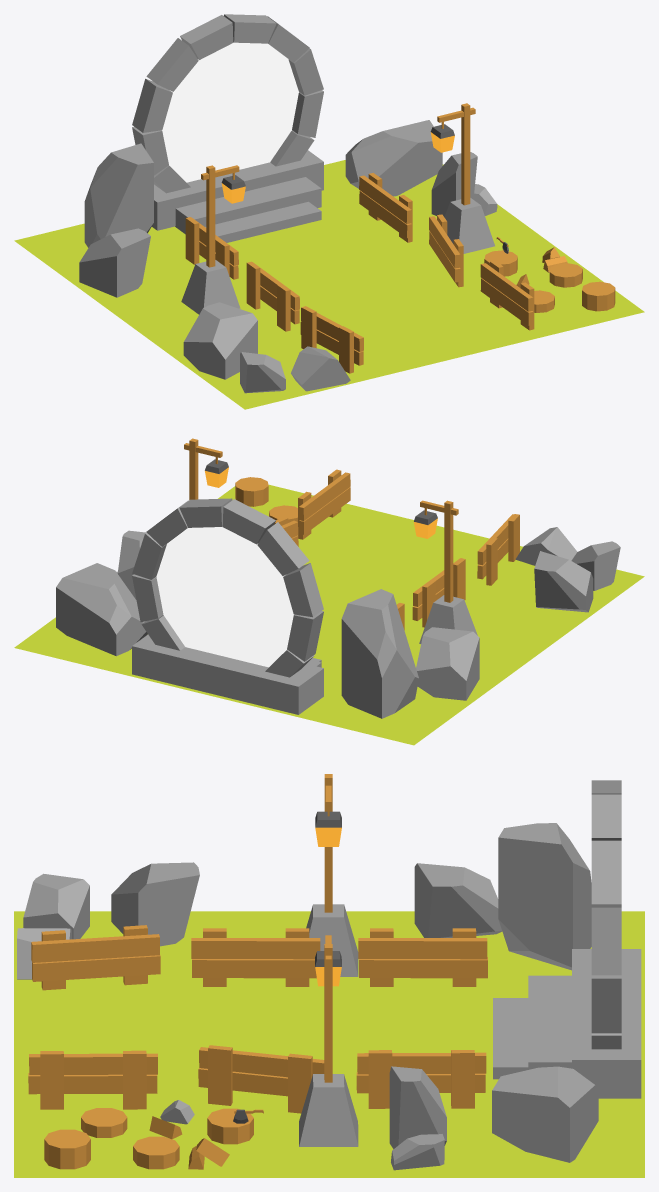
Rendered from Day1_013.glb.
3 renders of one model, top to bottom at view 1: azimuth 30°, elevation 25°; view 2: azimuth 150°, elevation 25°; view 3: azimuth 270°, elevation 25°, orthographic. The views are drawn at different scales.
Parts seen in each view (by area): view 1: Plane, Circle, rock5, rock7, rock2, rock4, st1, st2, fence1, st3, fence3, fence2 (+23 smaller); view 2: Plane, Circle, rock5, st1, rock7, rock4, rock2, fence3, fence1, fence2, pb7, pb8 (+15 smaller); view 3: Plane, rock5, rock7, st1, fence1, fence6, fence3, fence2, fence4, rock4, rock2, fence5 (+19 smaller).
Boxes of the visible parts, bbox=[...] form: Plane: bbox=[14, 160, 644, 409]; Circle: bbox=[162, 42, 298, 182]; rock5: bbox=[84, 143, 153, 247]; rock7: bbox=[345, 120, 442, 196]; rock2: bbox=[183, 302, 257, 379]; rock4: bbox=[79, 228, 150, 297]; st1: bbox=[152, 150, 323, 230]; st2: bbox=[175, 177, 321, 234]; fence1: bbox=[300, 306, 363, 373]; st3: bbox=[205, 201, 321, 242]; fence3: bbox=[480, 260, 534, 330]; fence2: bbox=[246, 261, 299, 331]; Plane: bbox=[14, 484, 644, 745]; Circle: bbox=[156, 527, 294, 667]; rock5: bbox=[341, 589, 418, 718]; st1: bbox=[132, 634, 323, 714]; rock7: bbox=[56, 563, 147, 656]; rock4: bbox=[416, 627, 479, 700]; rock2: bbox=[534, 551, 593, 612]; fence3: bbox=[298, 469, 350, 539]; fence1: bbox=[477, 514, 519, 585]; fence2: bbox=[412, 558, 465, 627]; pb7: bbox=[257, 522, 309, 575]; pb8: bbox=[283, 563, 323, 617]; Plane: bbox=[14, 911, 644, 1177]; rock5: bbox=[498, 823, 591, 970]; rock7: bbox=[492, 1066, 598, 1162]; st1: bbox=[572, 949, 641, 1098]; fence1: bbox=[31, 925, 160, 990]; fence6: bbox=[358, 928, 487, 986]; fence3: bbox=[28, 1050, 157, 1109]; fence2: bbox=[191, 928, 320, 986]; fence4: bbox=[198, 1045, 324, 1113]; rock4: bbox=[414, 863, 502, 937]; rock2: bbox=[111, 862, 199, 946]; fence5: bbox=[356, 1050, 486, 1108].
Size of the model in its own units: 4.04 by 1.85 by 4.03.
